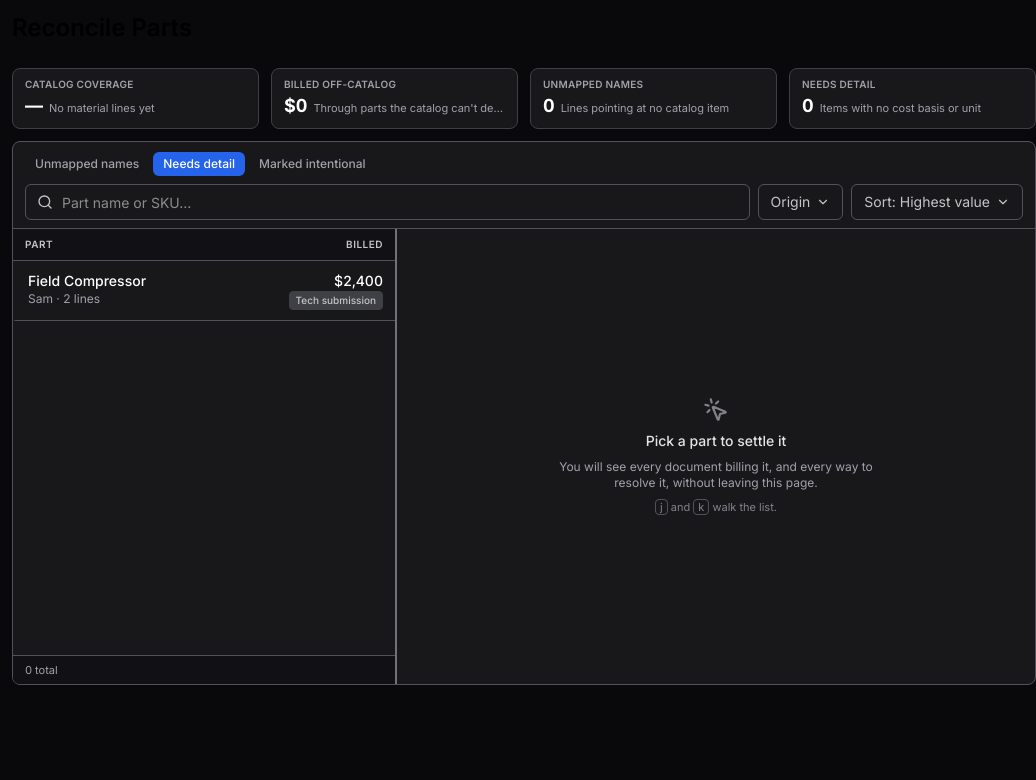
InventoryReconcilePage — provisional verbs › surfaces the server's refusal instead of failing silently
Step 1. Click the button "Field Compressor $2,400 Sam · 2 lines Tech submission" → (87, 280), box [13,261,395,321]
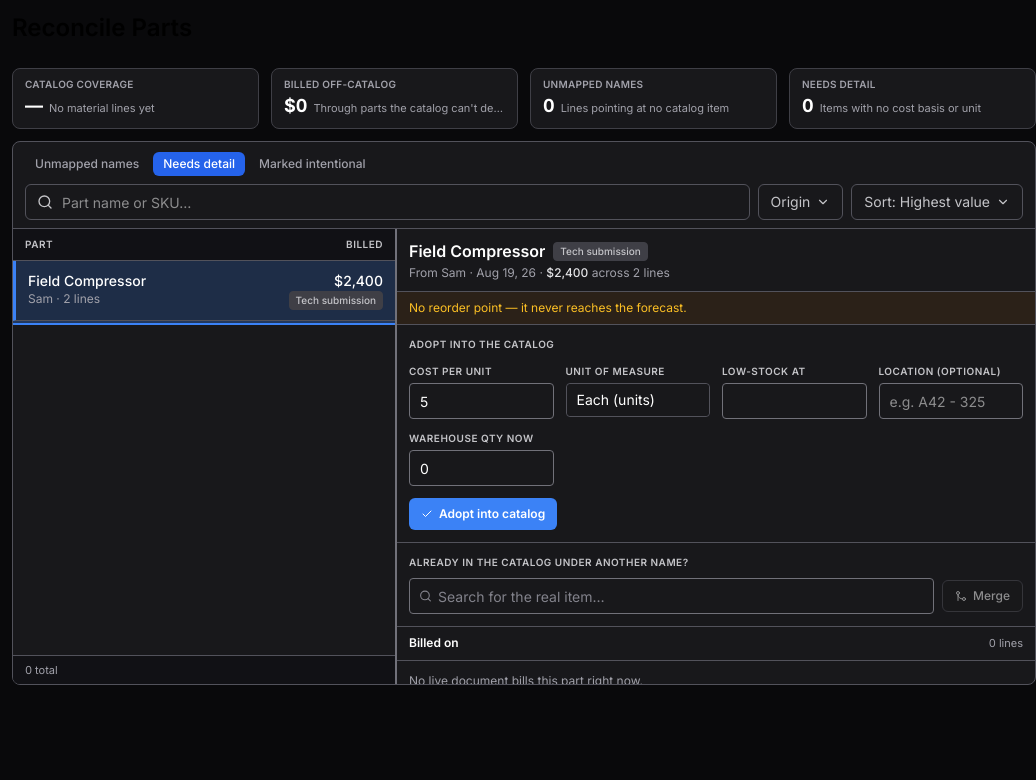
Step 2. Click the button "Adopt into catalog" → (483, 514), box [409,498,557,530]
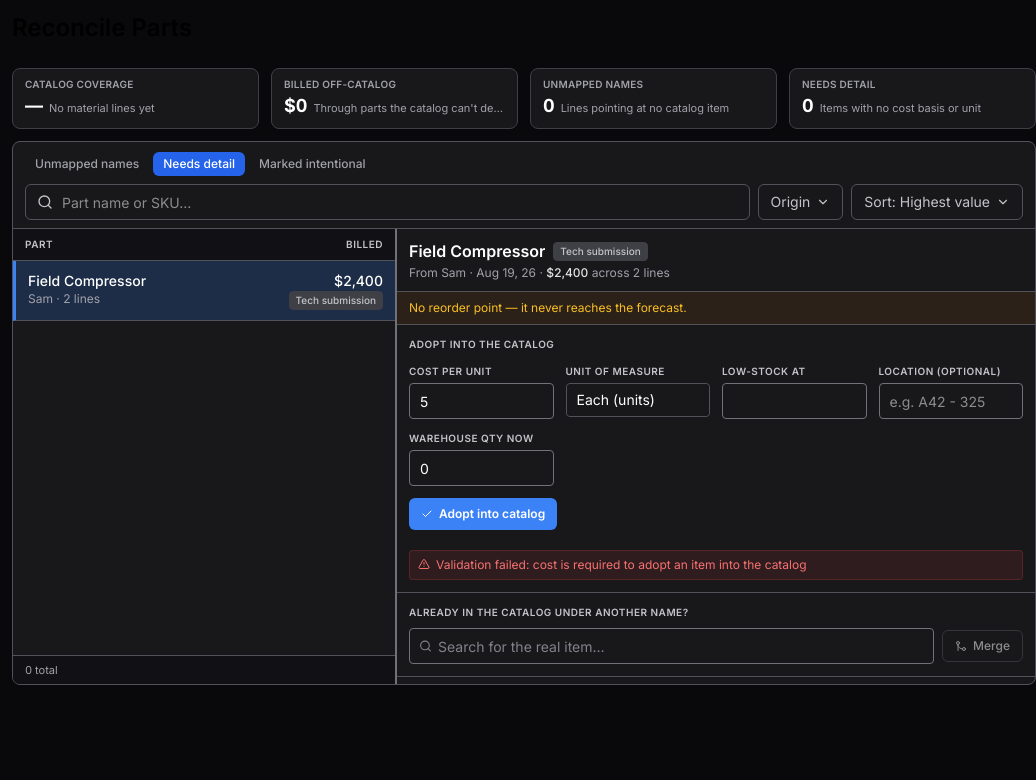
expect the text "Validation failed: cost is required to adopt an item into the catalog" is shown: met, box [409,550,1023,580]
